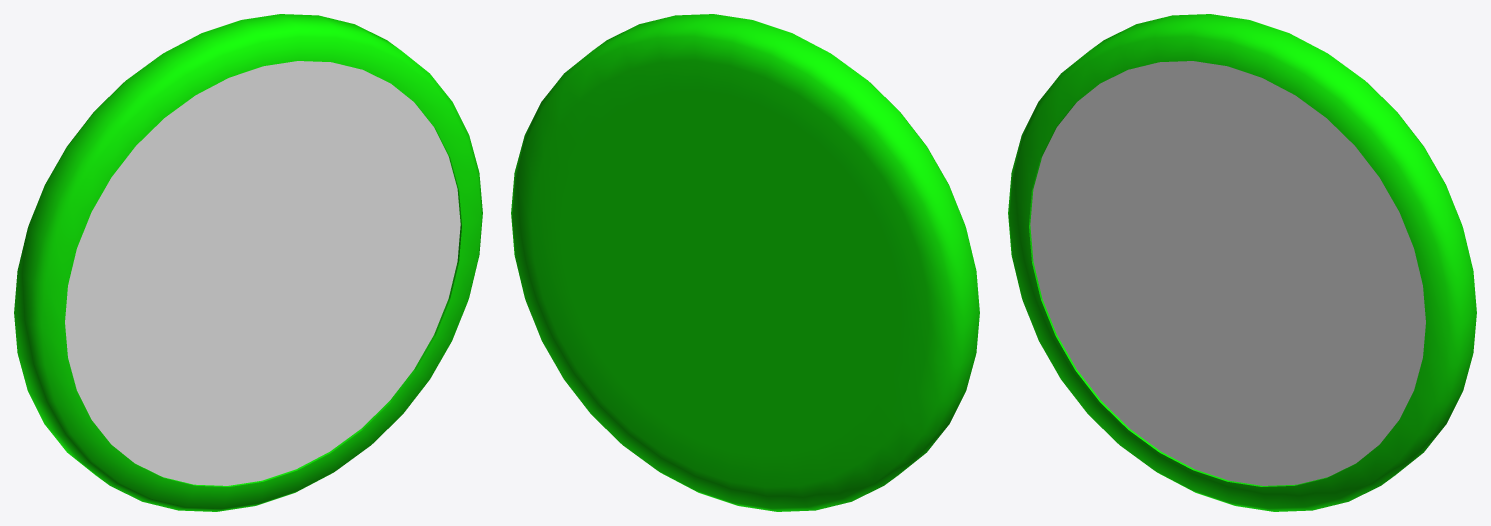
File: Clock.FBX
3 views of the same model, side by side, from view 1: azimuth 30°, elevation 25°; view 2: azimuth 150°, elevation 25°; view 3: azimuth 330°, elevation 25° (orthographic).
Parts seen in each view (by area): view 1: Shape003, Cylinder002; view 2: Cylinder002; view 3: Shape003, Cylinder002.
Boxes of the visible parts, box(x1,y1,x2,y2) form: Shape003: box(65, 61, 460, 485); Cylinder002: box(14, 14, 482, 511); Cylinder002: box(511, 14, 979, 511); Shape003: box(1030, 61, 1425, 485); Cylinder002: box(1008, 14, 1476, 511).
Size of the model in its own units: 20.71 by 20.71 by 2.38.
